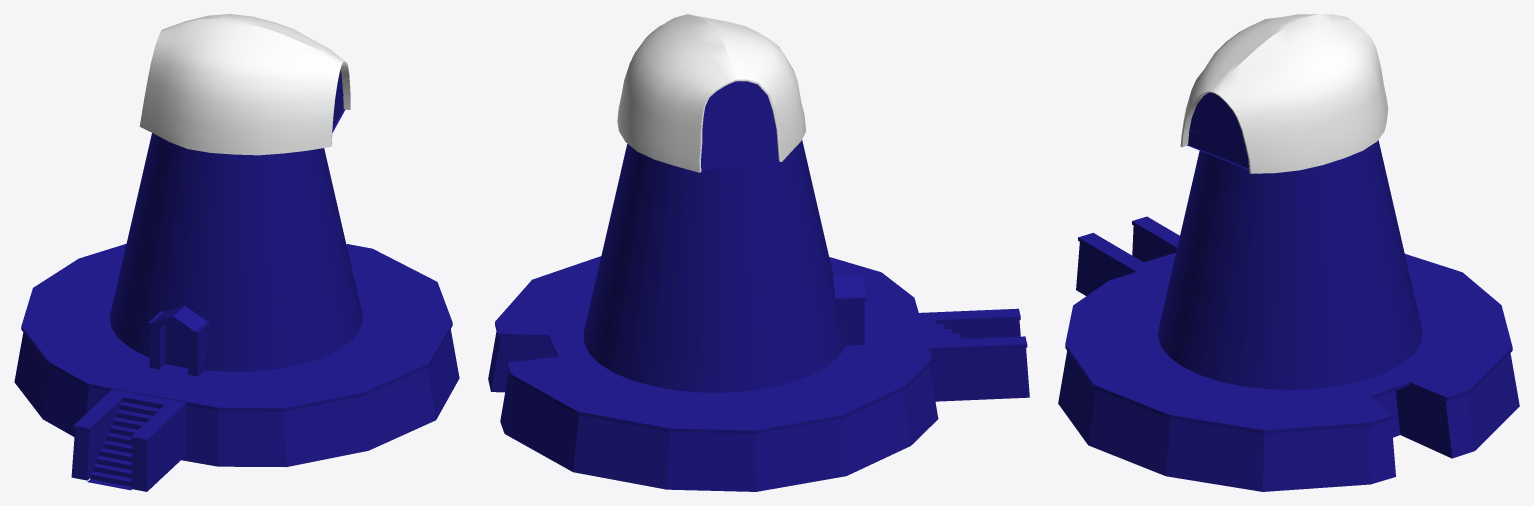
The model's file is dzirnavas_5.glb.
3 views of the same model, side by side, from view 1: azimuth 30°, elevation 25°; view 2: azimuth 150°, elevation 25°; view 3: azimuth 270°, elevation 25° (orthographic). The views are drawn at different scales.
Parts seen in each view (by area): view 1: galva; view 2: galva; view 3: galva.
Boxes of the visible parts, box(x1,y1,x2,y2) form: galva: box(14, 14, 459, 491); galva: box(488, 14, 1029, 491); galva: box(1058, 14, 1519, 491).
Bounding box in the file's own units: 2.41 × 1.9 × 2.15.
